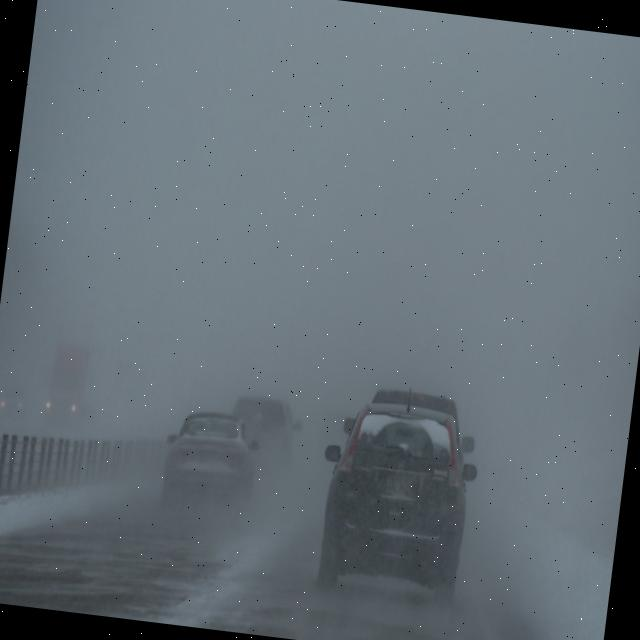bus: (42, 337, 105, 432)
car: (308, 400, 482, 604), (157, 404, 263, 520), (342, 376, 482, 462), (226, 393, 306, 480), (0, 377, 30, 419)
